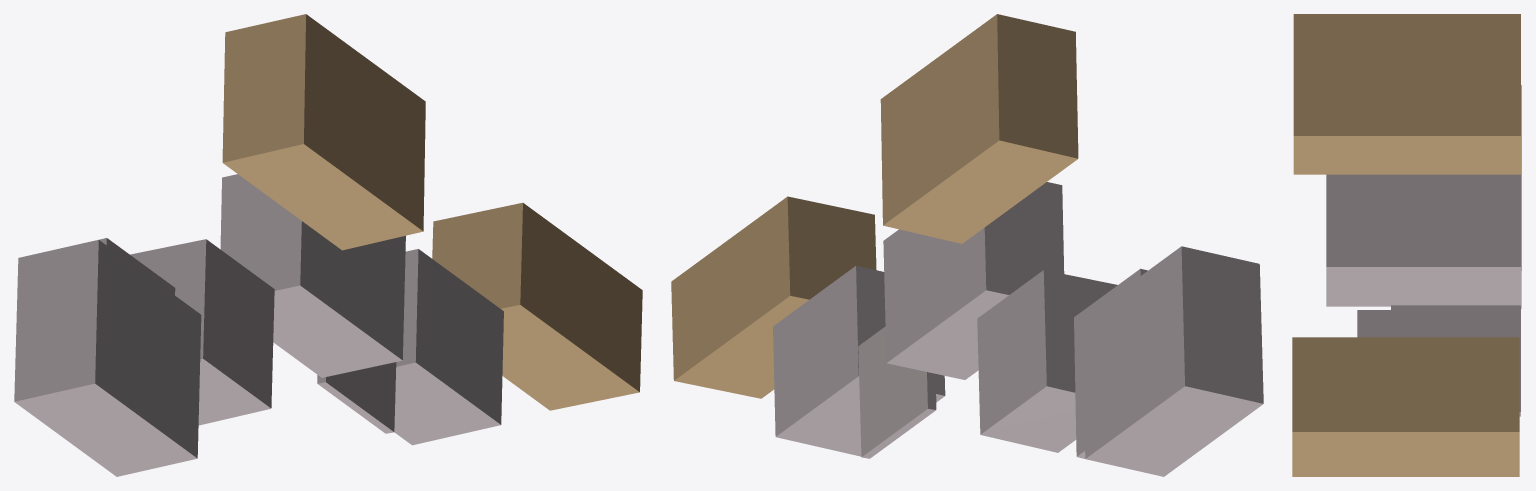
The picture shows the model from 3 angles, left to right: view 1: azimuth 30°, elevation 25°; view 2: azimuth 150°, elevation 25°; view 3: azimuth 270°, elevation 25°; orthographic projection. The views are drawn at different scales.
Visible parts, largest first — view 1: 0_2_1_3_0_0_2_3_3; view 2: 0_2_1_3_0_0_2_3_3; view 3: 0_2_1_3_0_0_2_3_3.
Part boxes in pixels (x1,y1,x2,y2): 0_2_1_3_0_0_2_3_3: (14, 14, 642, 476); 0_2_1_3_0_0_2_3_3: (671, 14, 1263, 476); 0_2_1_3_0_0_2_3_3: (1292, 14, 1521, 476).
Size of the model in its own units: 51.43 by 36.4 by 21.19.
